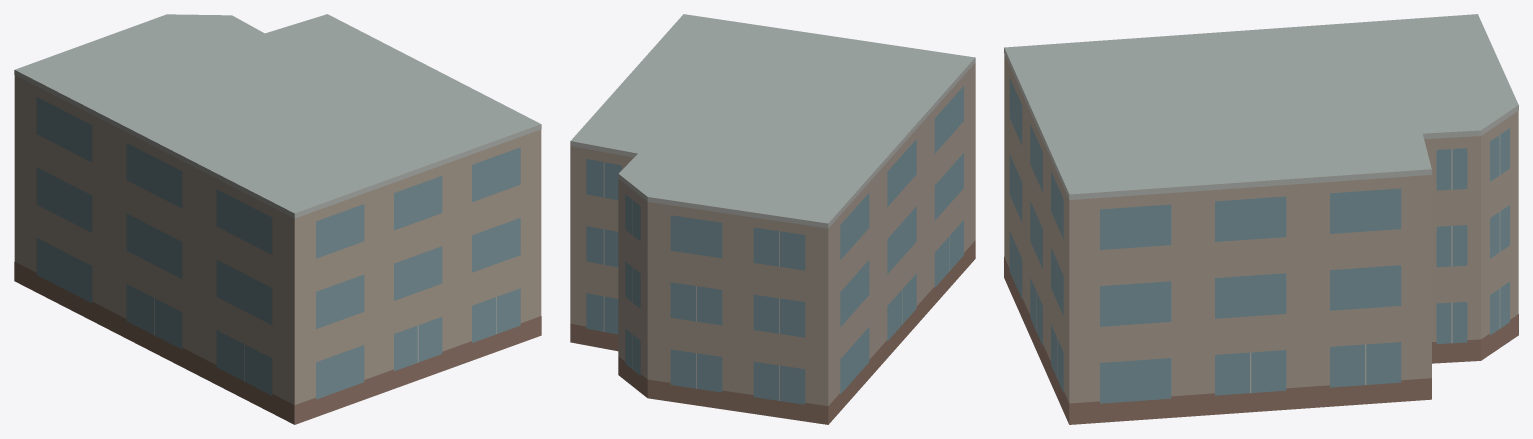
The model's file is survey-upis-32681118.glb.
3 renders of one model, left to right at view 1: azimuth 30°, elevation 25°; view 2: azimuth 150°, elevation 25°; view 3: azimuth 270°, elevation 25°, orthographic. The views are drawn at different scales.
Parts seen in each view (by area): view 1: survey-upis-32681118.tmp; view 2: survey-upis-32681118.tmp; view 3: survey-upis-32681118.tmp.
Boxes of the visible parts, <box> form: survey-upis-32681118.tmp: <box>14,14,541,424</box>; survey-upis-32681118.tmp: <box>570,14,975,424</box>; survey-upis-32681118.tmp: <box>1004,14,1518,424</box>.
Bounding box in the file's own units: 16.9 × 10.05 × 20.36.
